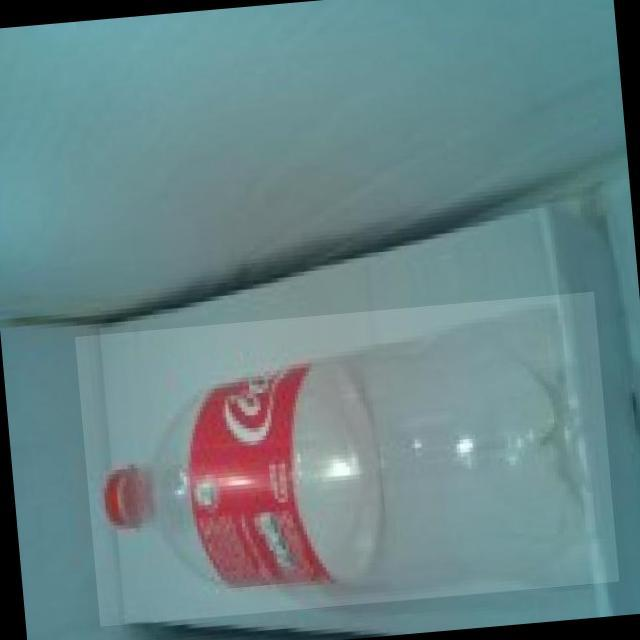good: (74, 288, 618, 624)
